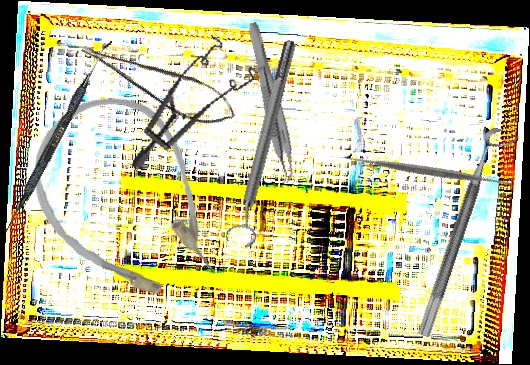Cannula: (5, 71, 248, 335)
Fixation Ring: (416, 125, 520, 344), (221, 36, 309, 251)
Micro Scissor: (77, 18, 243, 141)
Spatula Surgical: (339, 81, 517, 260), (2, 35, 113, 237)
Speculum: (131, 23, 265, 194)
Tissue Forceps: (238, 20, 302, 186)
